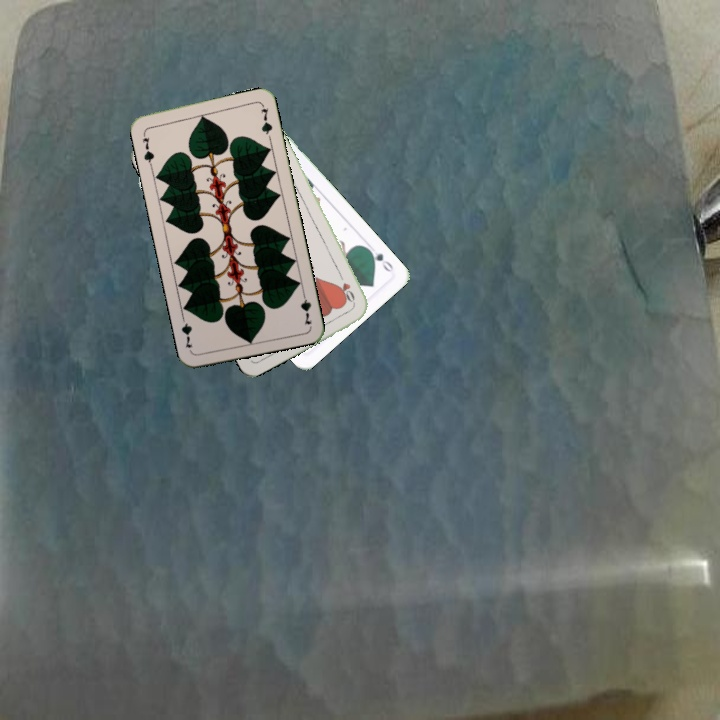G7: (138, 128, 157, 168), (296, 287, 314, 328)
GO: (363, 244, 396, 275)
HO: (335, 268, 358, 307)
